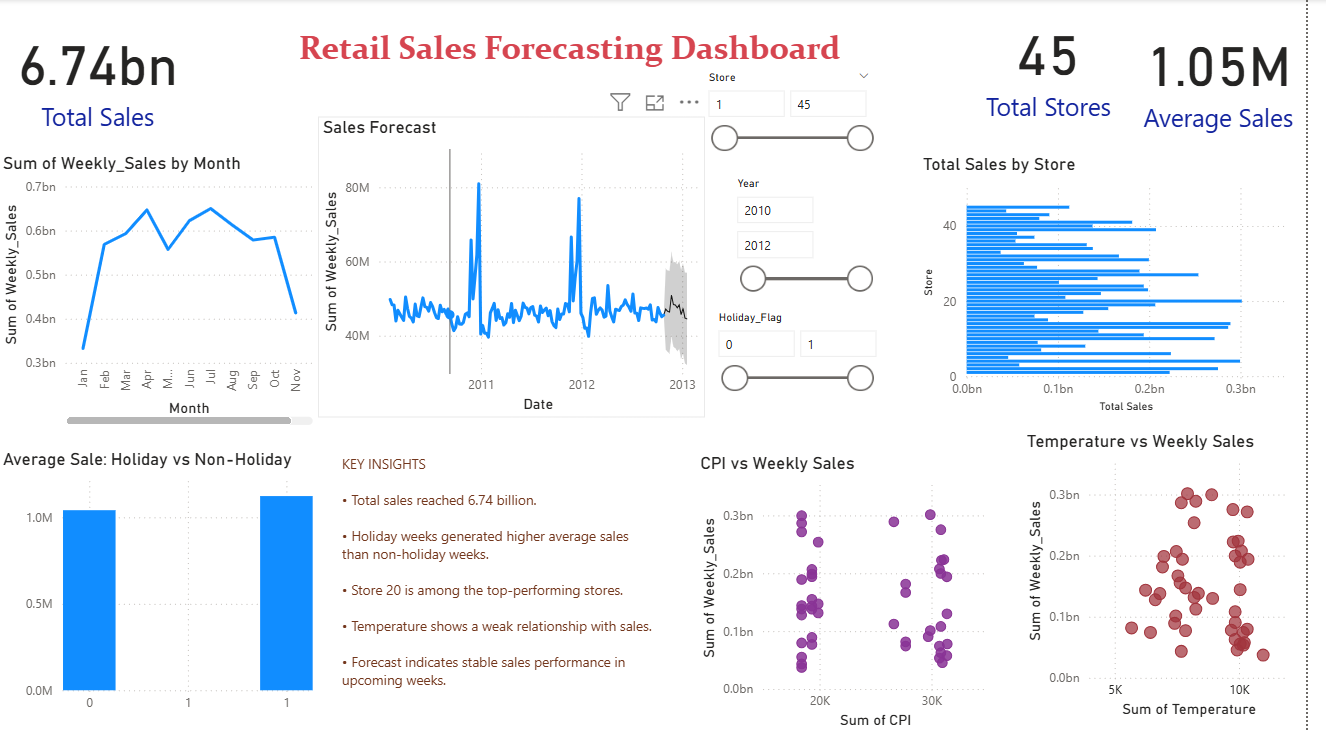

The dashboard page shown, as its layout file describes it:
{"tool":"powerbi","page":{"name":"Page 1","canvas":[1280,720],"ordinal":0},"visuals":[{"type":"card","fields":{"Values":["Walmart.Total Sales"]},"box":[0,0,195.7,149.2],"z":0},{"type":"card","fields":{"Values":["Walmart.Total Stores"]},"box":[915.9,0,223.8,128.4],"z":1},{"type":"card","fields":{"Values":["Walmart.Average Sales"]},"box":[1107.9,0,172.4,150.4],"z":2},{"type":"textbox","box":[210.3,23.2,705.6,91.7],"z":3},{"type":"lineChart","fields":{"Y":["Sum(Walmart.Weekly_Sales)"],"Category":["Walmart.Month"]},"box":[0,150.4,313,271.5],"z":4},{"type":"slicer","fields":{"Values":["Walmart.Store"]},"box":[682.3,64.8,182.2,103.9],"z":6},{"type":"slicer","fields":{"Values":["Walmart.Year"]},"box":[710.5,168.8,154.1,130.8],"z":7},{"type":"slicer","fields":{"Values":["Walmart.Holiday_Flag"]},"box":[692.1,299.6,172.4,119.8],"z":8},{"type":"lineChart","title":"Sales Forecast","fields":{"Y":["Sum(Walmart.Weekly_Sales)"],"Category":["Walmart.Date"]},"box":[313,111.3,355.8,298.4],"z":9},{"type":"clusteredColumnChart","title":"Average Sale: Holiday vs Non-Holiday","fields":{"Category":["Walmart.Holiday_Flag"],"Y":["Walmart.Average Sales"]},"box":[0,440.2,331.4,280],"z":10},{"type":"scatterChart","title":"CPI vs Weekly Sales","fields":{"X":["Sum(Walmart.CPI)"],"Y":["Sum(Walmart.Weekly_Sales)"],"Category":["Walmart.Store"]},"box":[682.3,443.9,300.8,275.1],"z":11},{"type":"scatterChart","title":"Temperature vs Weekly Sales","fields":{"X":["Sum(Walmart.Temperature)"],"Y":["Sum(Walmart.Weekly_Sales)"],"Category":["Walmart.Store"]},"box":[1001.5,421.9,276.4,286.1],"z":12},{"type":"clusteredBarChart","fields":{"Y":["Walmart.Total Sales"],"Category":["Walmart.Store"]},"box":[900,151.6,380.3,258],"z":13},{"type":"textbox","box":[331,440,320,280],"z":14}]}

Visuals, with their boxes in screenshot pixels (x1, y1, x2, y2), scaled from the page's 1280x720 canvas onto the 1326x730 screenshot:
card - Walmart.Total Sales: left=0, top=0, right=203, bottom=151
card - Walmart.Total Stores: left=949, top=0, right=1181, bottom=130
card - Walmart.Average Sales: left=1148, top=0, right=1325, bottom=152
textbox: left=218, top=24, right=949, bottom=116
lineChart - Sum(Walmart.Weekly_Sales) x Walmart.Month: left=0, top=152, right=324, bottom=428
slicer - Walmart.Store: left=707, top=66, right=896, bottom=171
slicer - Walmart.Year: left=736, top=171, right=896, bottom=304
slicer - Walmart.Holiday_Flag: left=717, top=304, right=896, bottom=425
"Sales Forecast" lineChart: left=324, top=113, right=693, bottom=415
"Average Sale: Holiday vs Non-Holiday" clusteredColumnChart: left=0, top=446, right=343, bottom=729
"CPI vs Weekly Sales" scatterChart: left=707, top=450, right=1018, bottom=729
"Temperature vs Weekly Sales" scatterChart: left=1037, top=428, right=1324, bottom=718
clusteredBarChart - Walmart.Total Sales x Walmart.Store: left=932, top=154, right=1325, bottom=415
textbox: left=343, top=446, right=674, bottom=729
